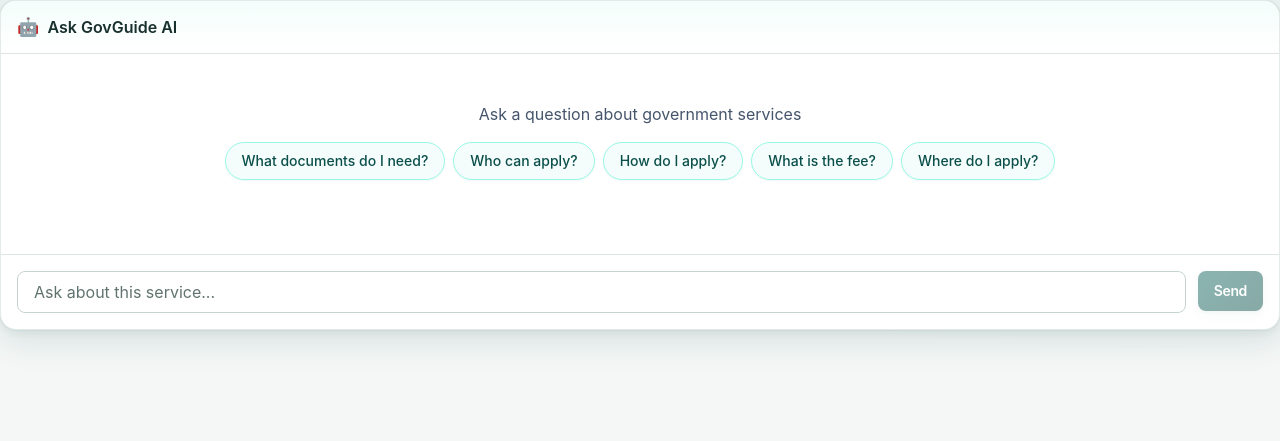
Test: AiChat › renders the clarification question when the assistant needs it
Click the button "Where do I apply?".
click(978, 161)  # box [901,142,1056,180]
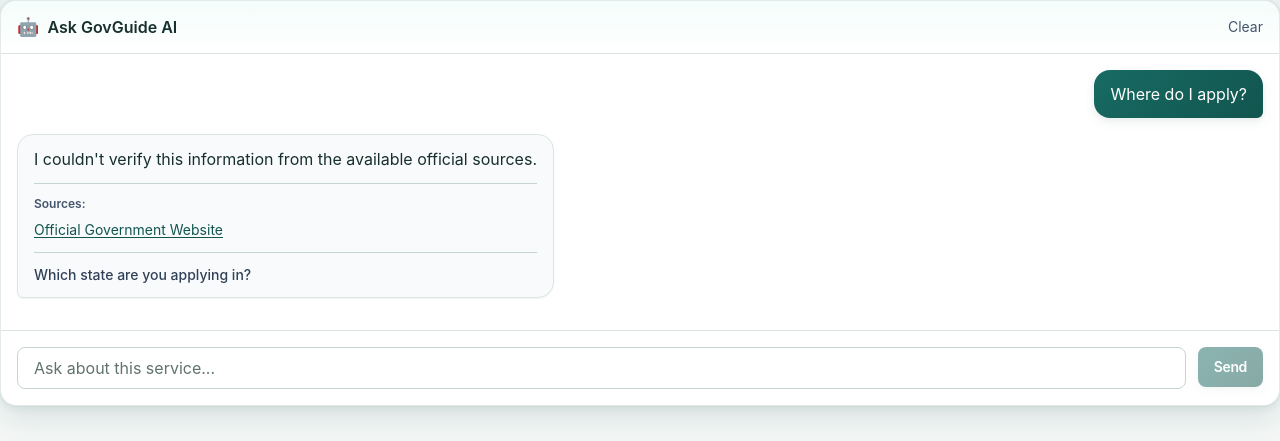
Expected: the text "Which state are you applying in?" is shown, [34,266,251,283]
